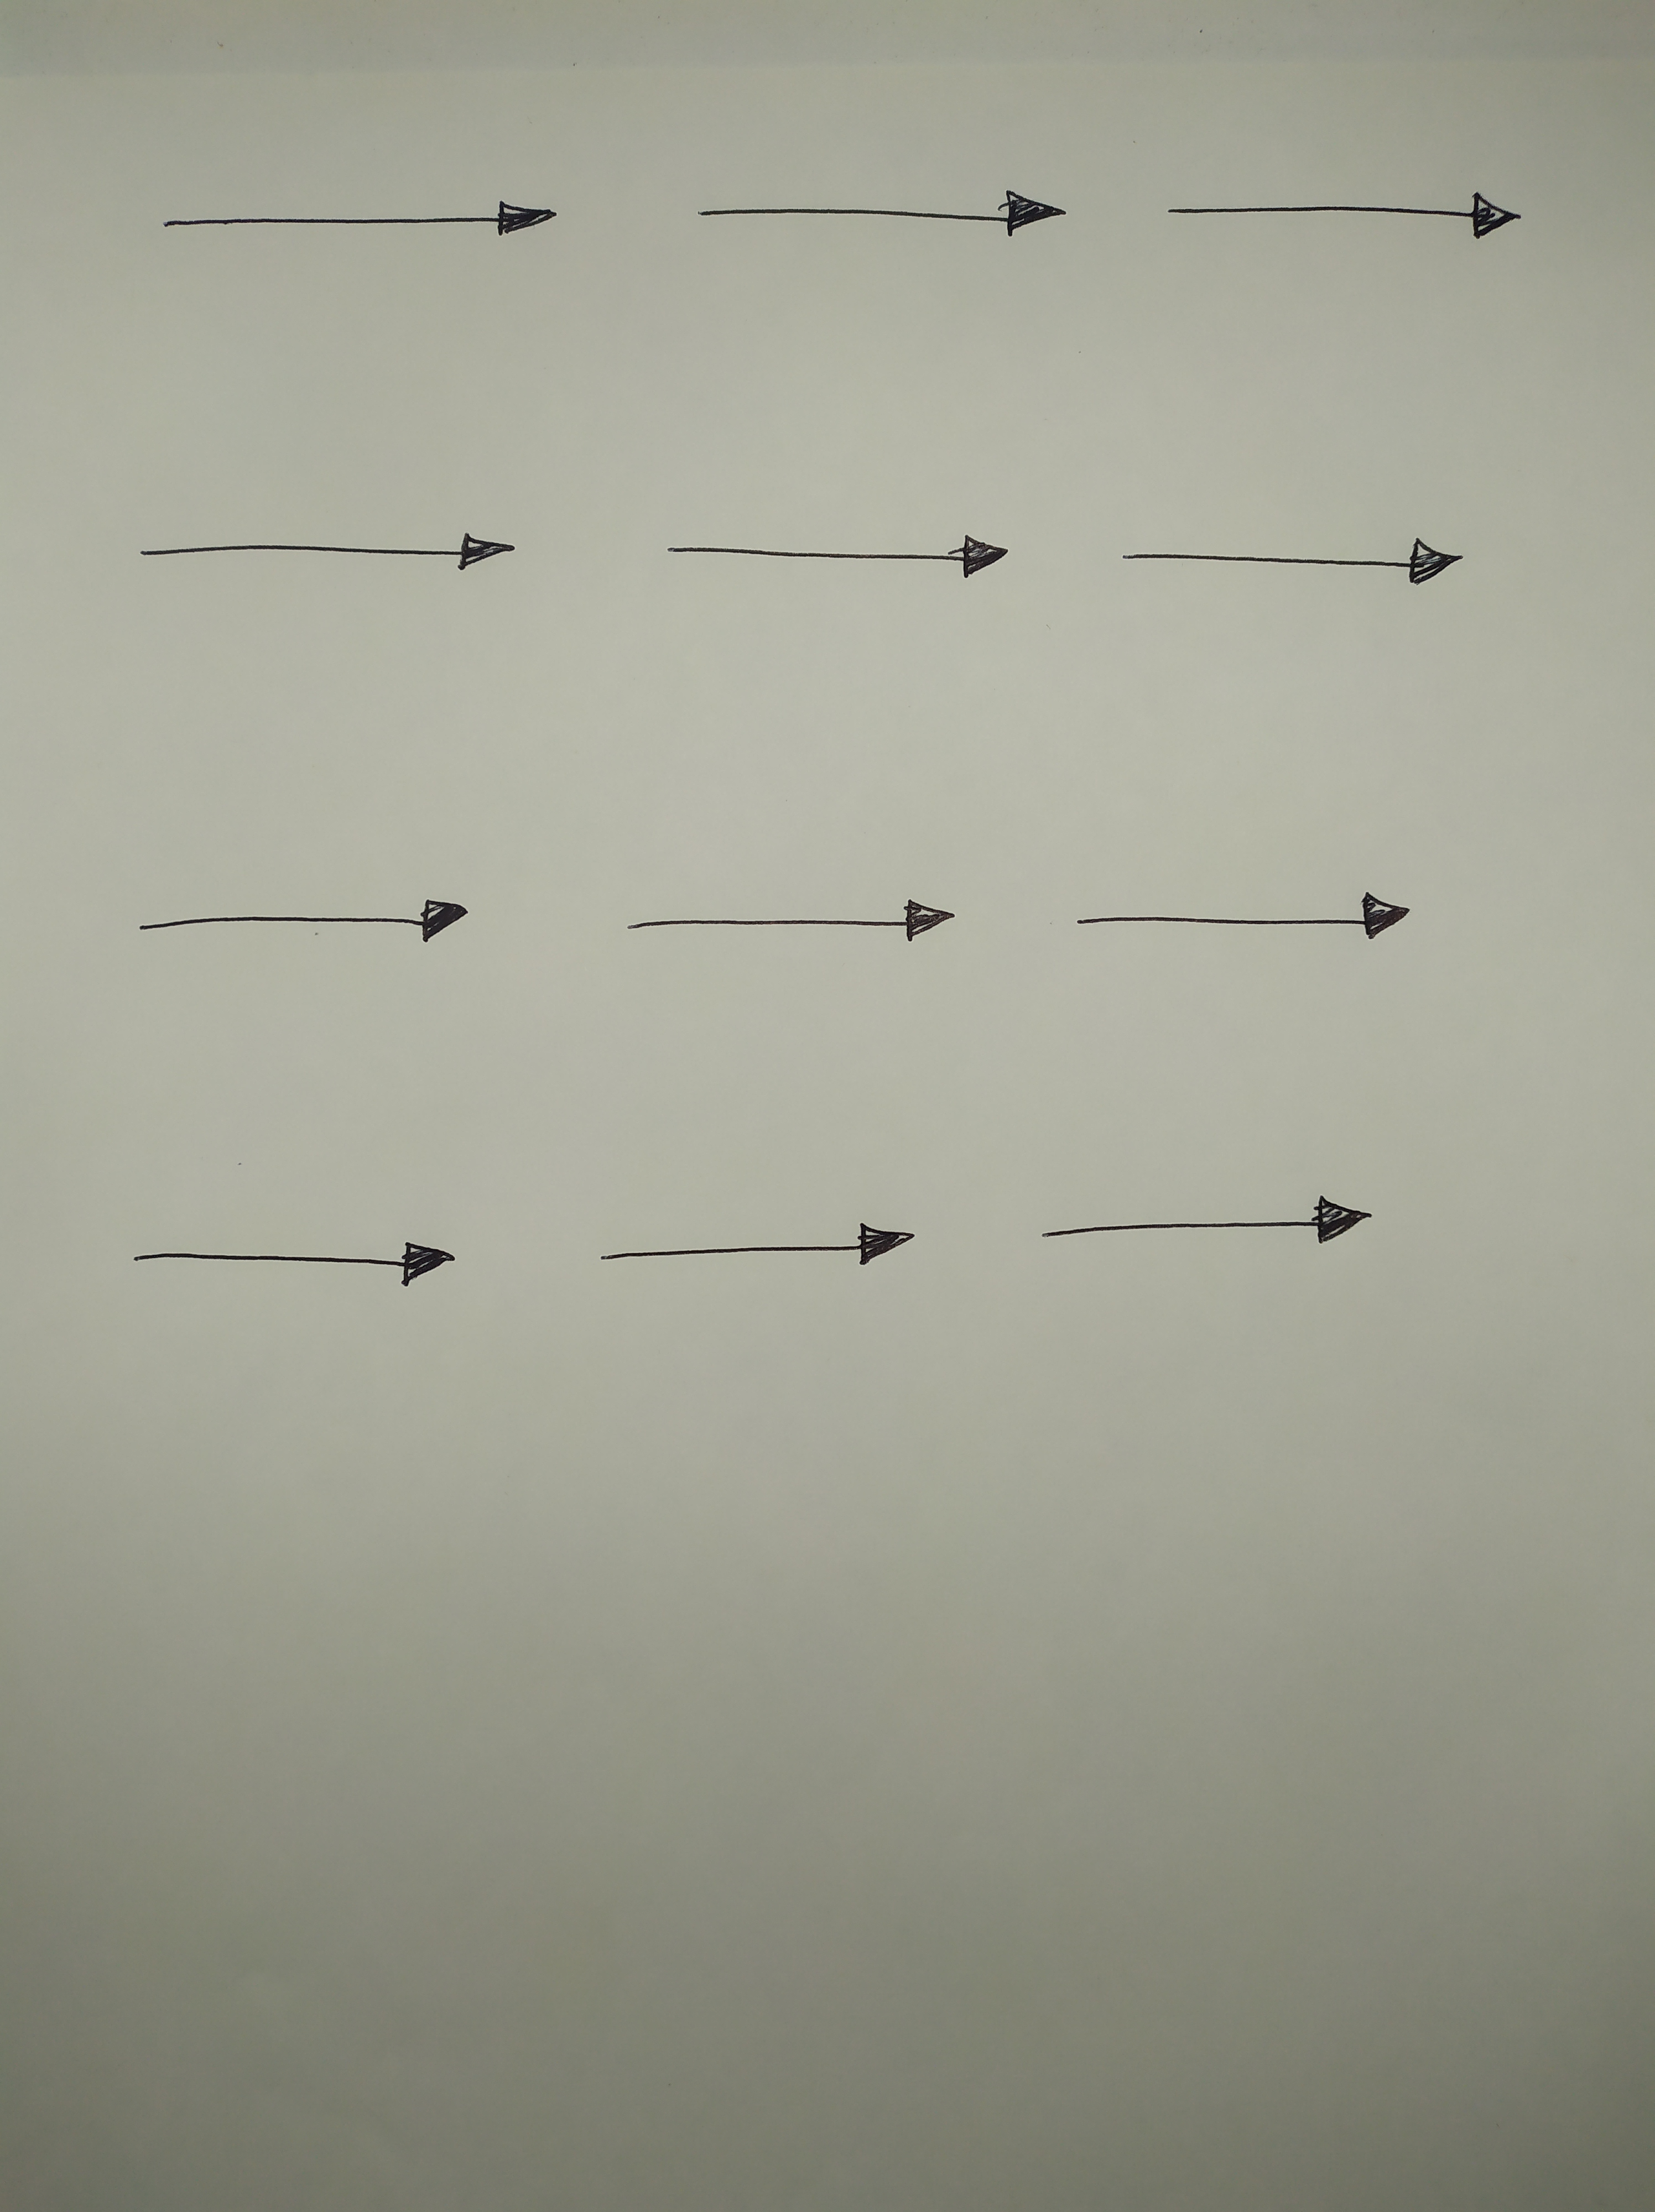arrow_line_right: (106, 490, 522, 593), (104, 1209, 513, 1314), (1106, 504, 1483, 610), (137, 179, 575, 269), (1010, 1175, 1396, 1274), (657, 182, 1116, 264), (120, 869, 494, 964), (600, 878, 972, 971), (555, 1209, 951, 1282), (1153, 182, 1554, 254), (635, 523, 1040, 593), (1043, 884, 1432, 954)
